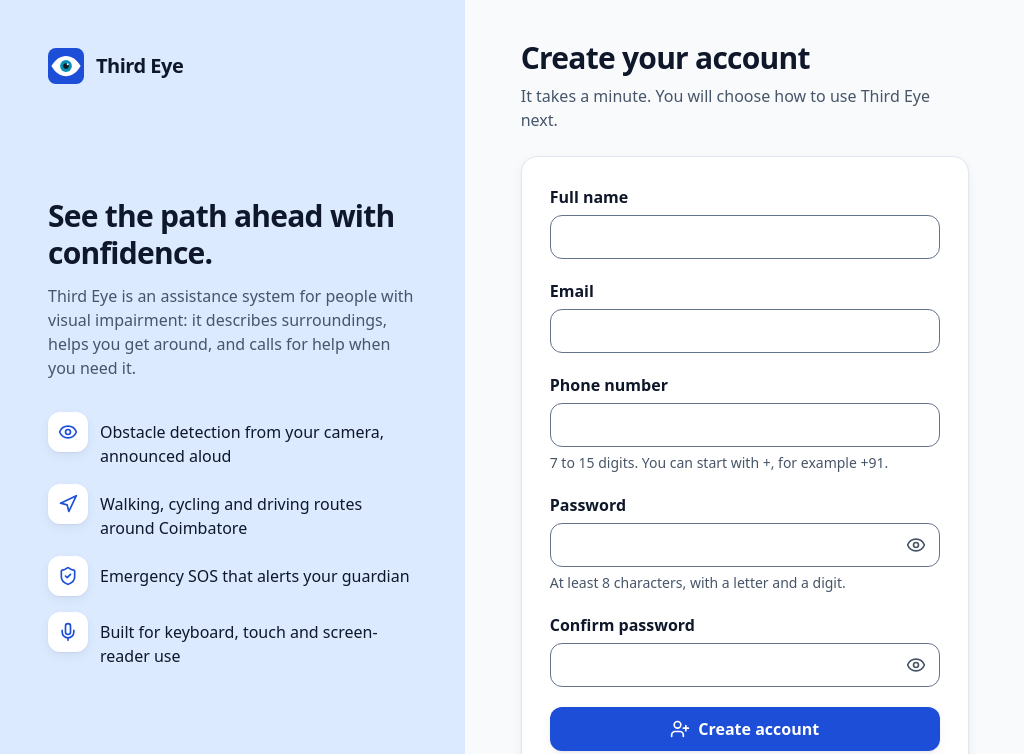
Test: Register › flags a bad phone number
Type "Asha Raman" into the field labelled "Full name" at (745, 237), box [550, 215, 940, 259]
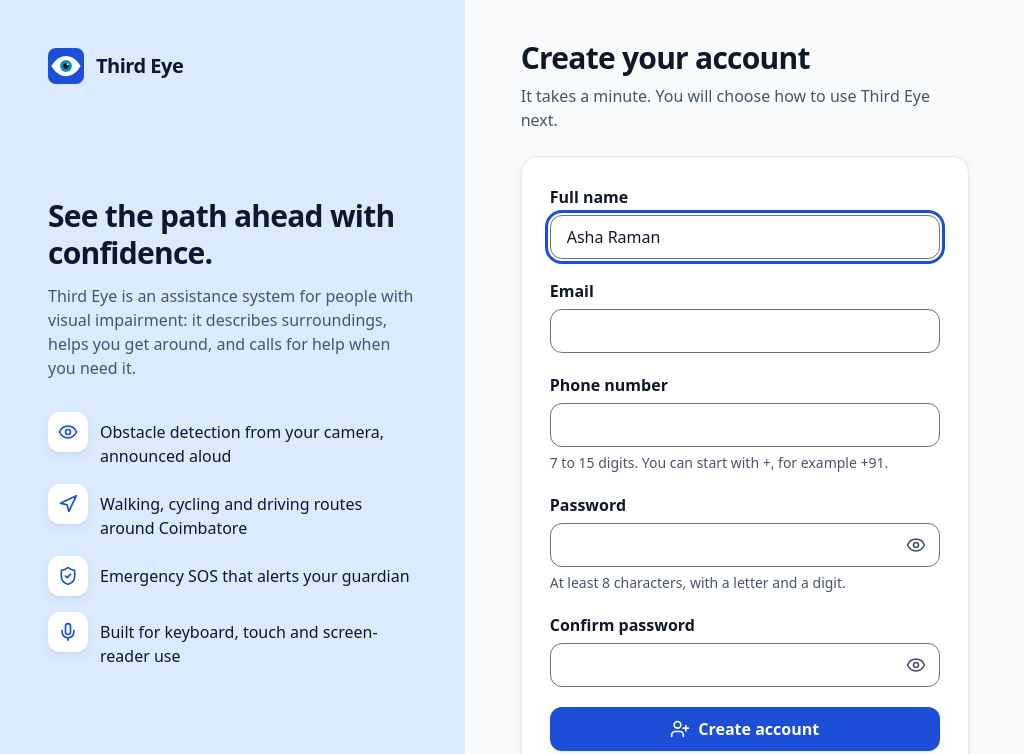
Type "asha@example.com" into the field labelled "Email" at (745, 331), box [550, 309, 940, 353]
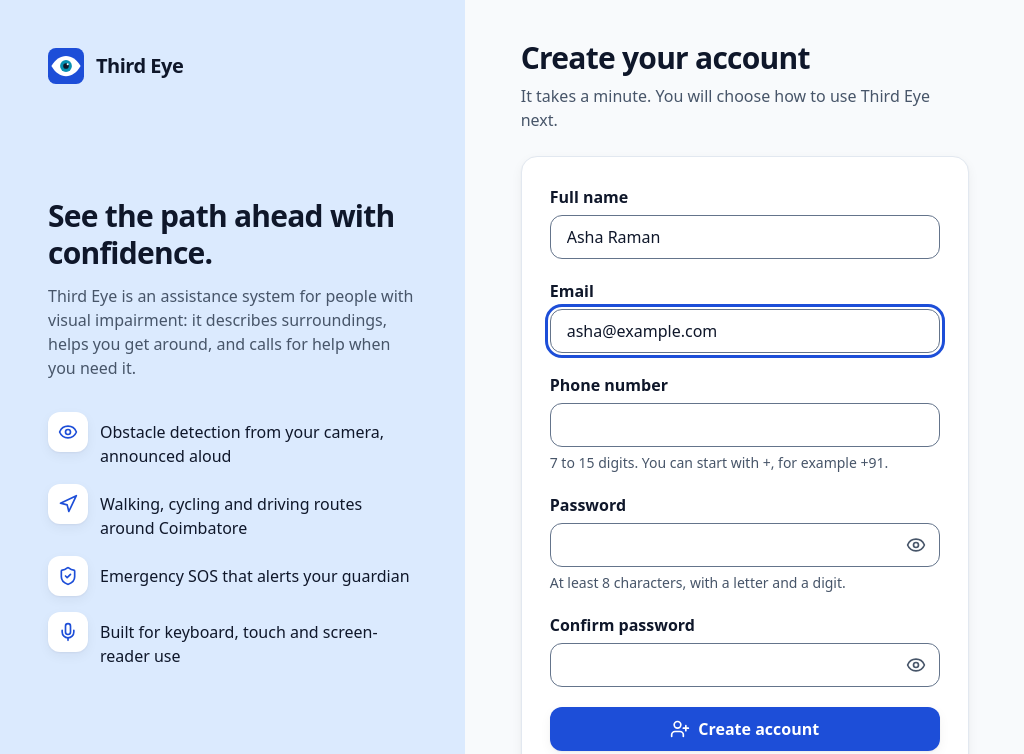
Type "12ab" into the field labelled "Phone number" at (745, 425), box [550, 403, 940, 447]
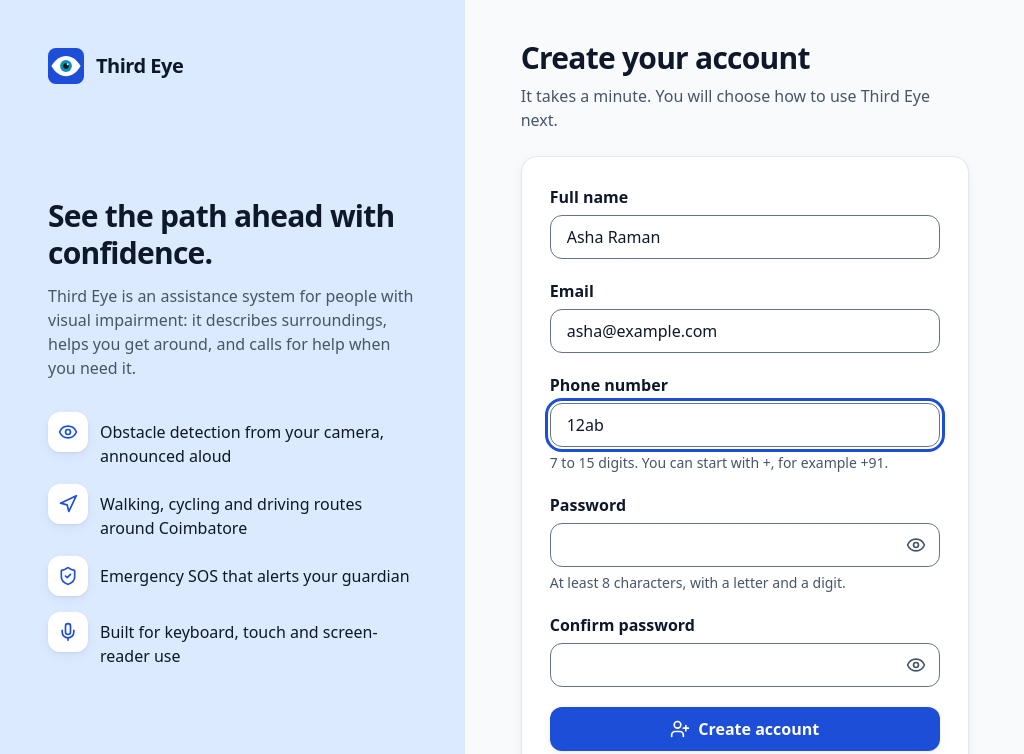
Type "goodpass1" into the password field labelled "Password" at (745, 545), box [550, 523, 940, 567]
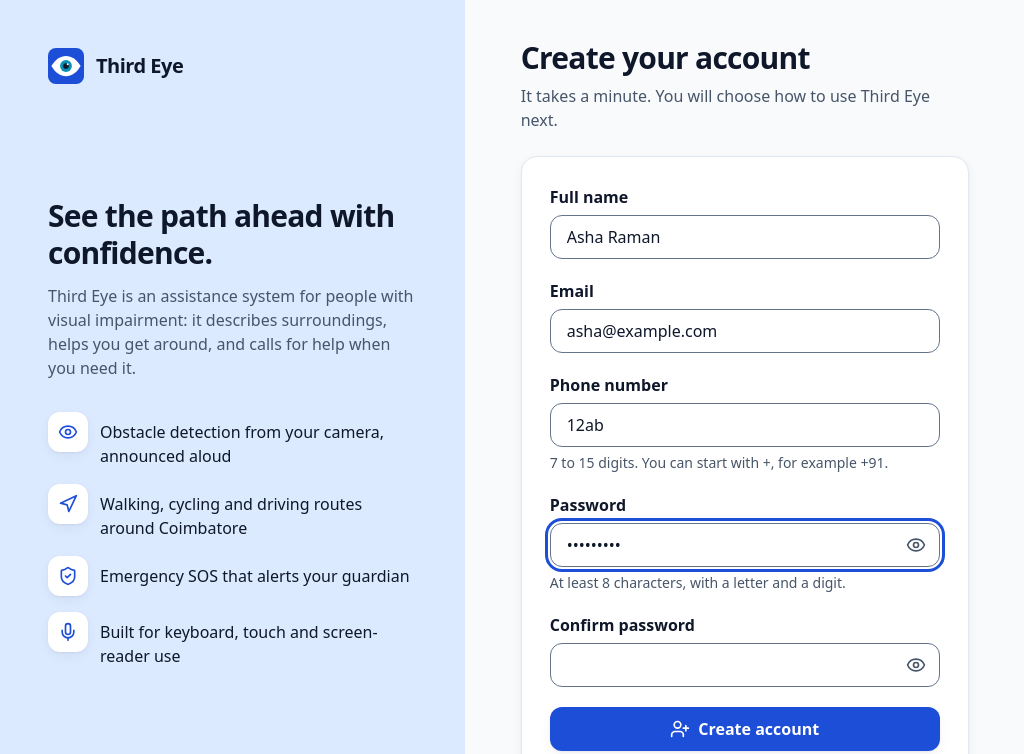
Type "goodpass1" into the password field labelled "Confirm password" at (745, 665), box [550, 643, 940, 687]
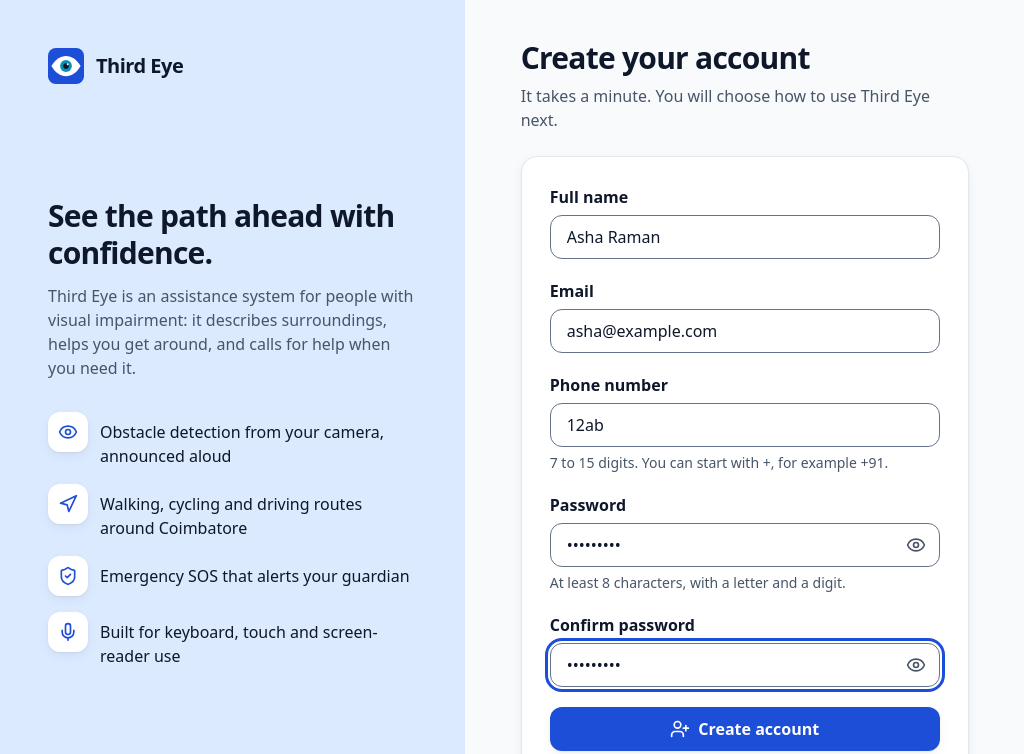
Click the button "Create account" at (745, 729), box [550, 707, 940, 751]
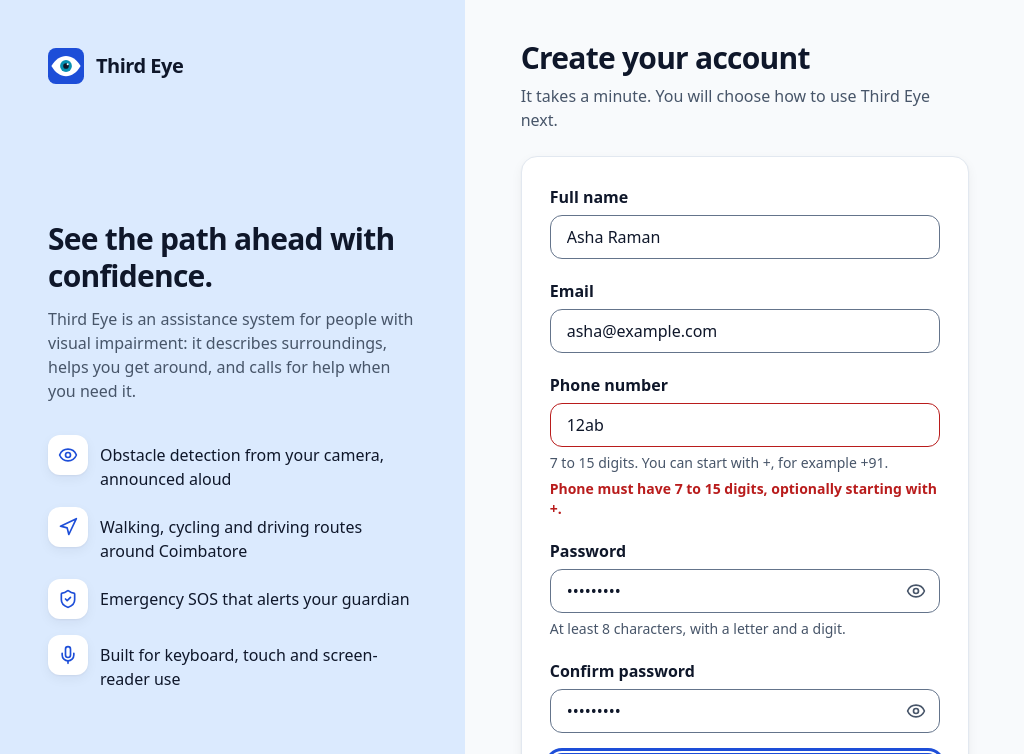
Now the text "Phone must have 7 to 15 digits, optionally starting with +." is shown, box [550, 479, 940, 519]
